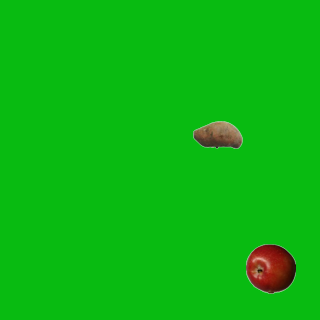Apple Braeburn: (245, 243, 295, 293)
Potato Sweet: (192, 109, 242, 159)
